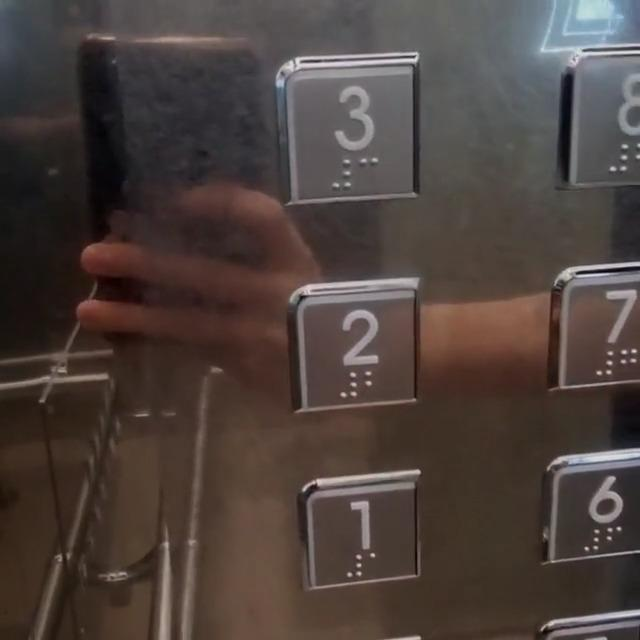button: (279, 59, 420, 194), (280, 280, 424, 409), (301, 475, 436, 588), (540, 264, 640, 384), (564, 47, 640, 187), (542, 456, 640, 561)
